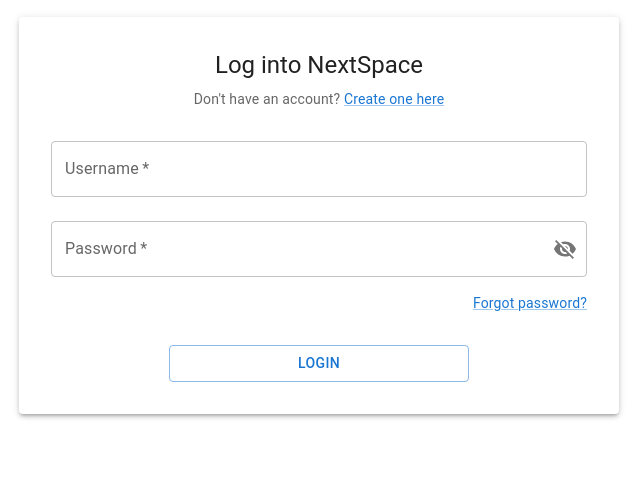
Test: LoginPage › validates password is required
// Tab to password field
Click the field labelled "Username *" at (319, 169), box [51,141,587,197]
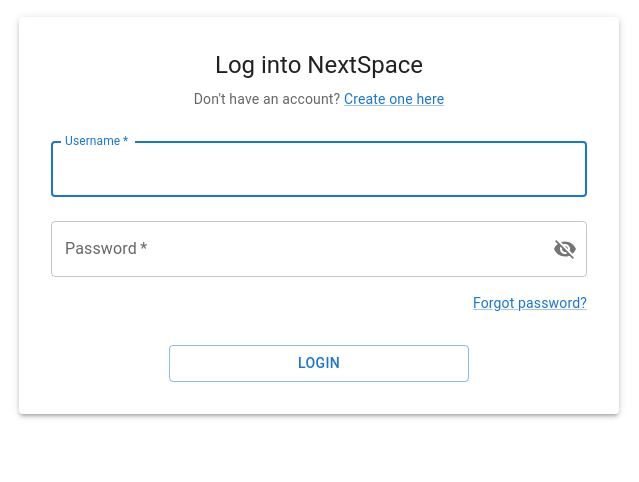
Press Tab
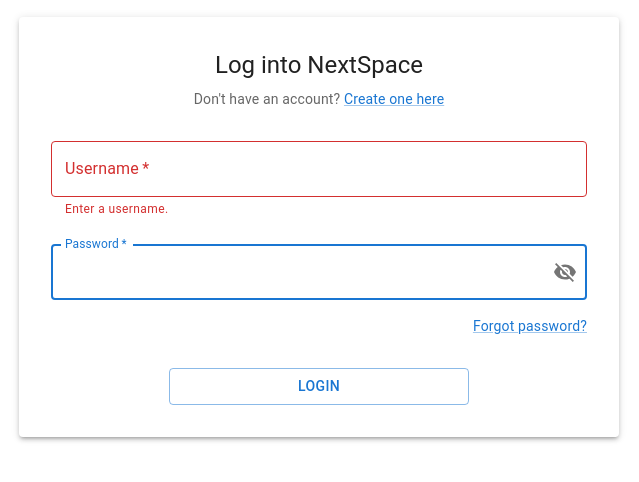
Press Tab
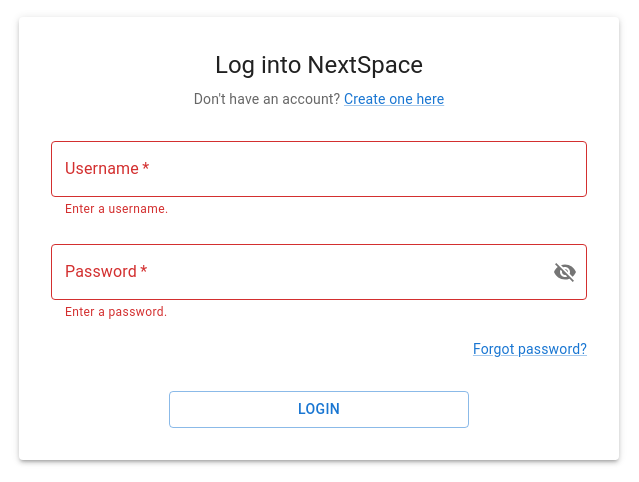
Expected: the text "Enter a password." is shown, [65,305,168,319]
